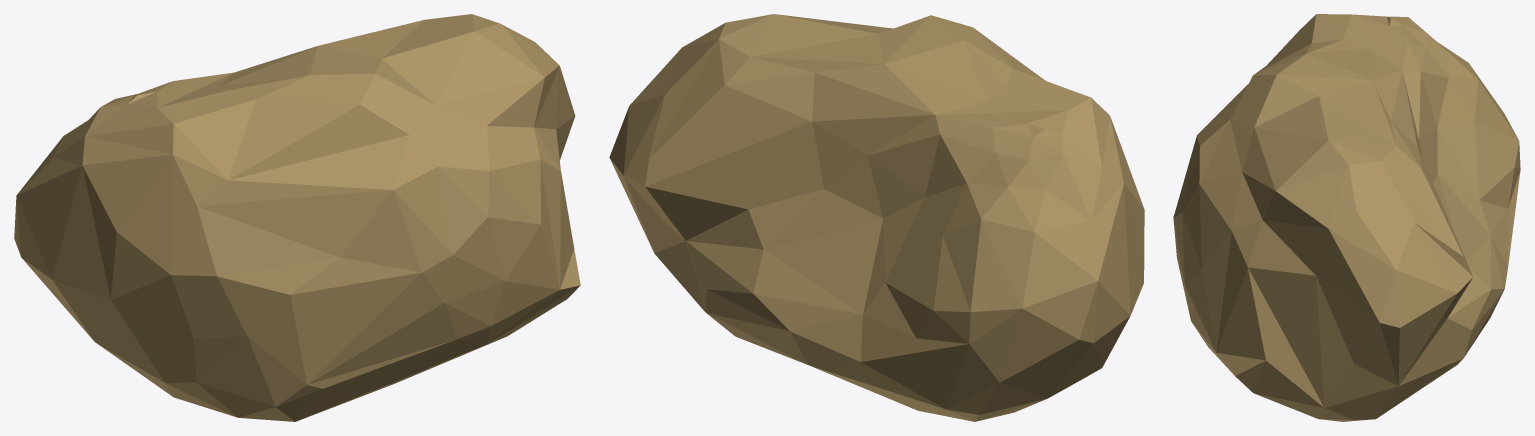
File: Rock 1.fbx
3 renders of one model, left to right at view 1: azimuth 30°, elevation 25°; view 2: azimuth 150°, elevation 25°; view 3: azimuth 270°, elevation 25°, orthographic. The views are drawn at different scales.
Parts seen in each view (by area): view 1: pPlatonic6; view 2: pPlatonic6; view 3: pPlatonic6.
Boxes of the visible parts, bbox=[...] form: pPlatonic6: bbox=[14, 14, 580, 421]; pPlatonic6: bbox=[609, 14, 1144, 421]; pPlatonic6: bbox=[1173, 14, 1520, 421].
Size of the model in its own units: 7.37 by 4.42 by 4.66.
